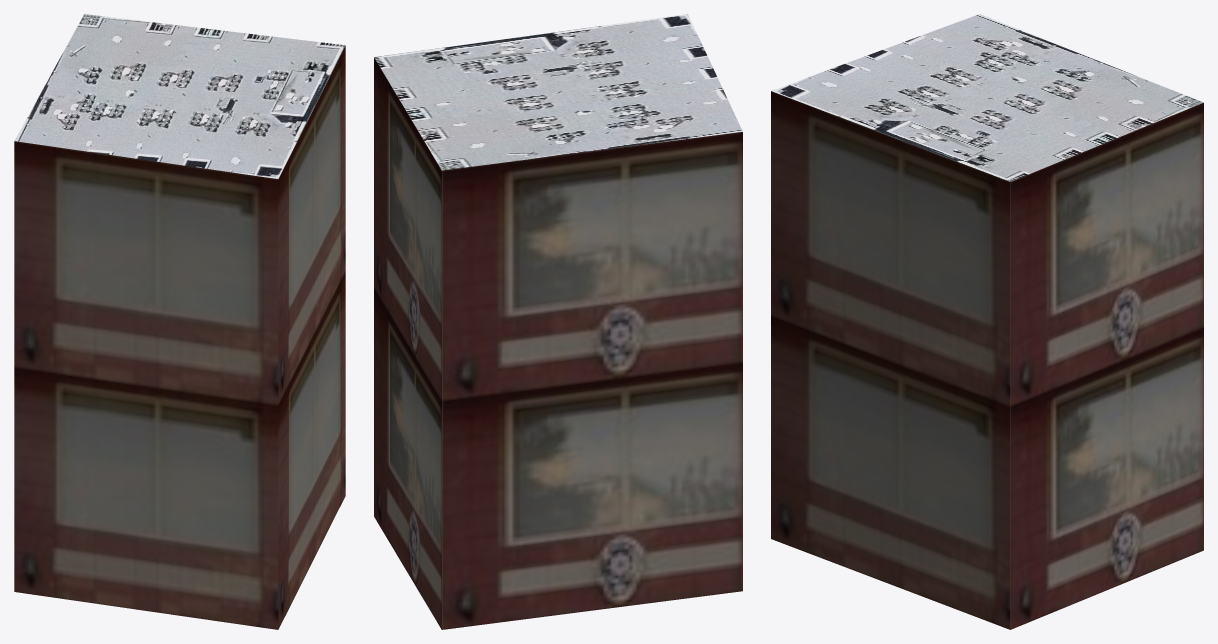
The model's file is ResTex__1267.fbx.
3 renders of one model, left to right at view 1: azimuth 30°, elevation 25°; view 2: azimuth 150°, elevation 25°; view 3: azimuth 270°, elevation 25°, orthographic. The views are drawn at different scales.
Parts seen in each view (by area): view 1: CityEngineMaterial_13_m, CityEngineMaterial_m; view 2: CityEngineMaterial_13_m, CityEngineMaterial_m; view 3: CityEngineMaterial_13_m, CityEngineMaterial_m.
Boxes of the visible parts, x1=… form: CityEngineMaterial_13_m: x1=14, y1=45, x2=345, y2=629; CityEngineMaterial_m: x1=14, y1=14, x2=345, y2=178; CityEngineMaterial_13_m: x1=374, y1=57, x2=742, y2=629; CityEngineMaterial_m: x1=374, y1=14, x2=742, y2=170; CityEngineMaterial_13_m: x1=771, y1=91, x2=1203, y2=629; CityEngineMaterial_m: x1=771, y1=14, x2=1203, y2=181.
Size of the model in its own units: 4.83 by 6 by 5.25.
Materials: 2 (2 with a texture image).
